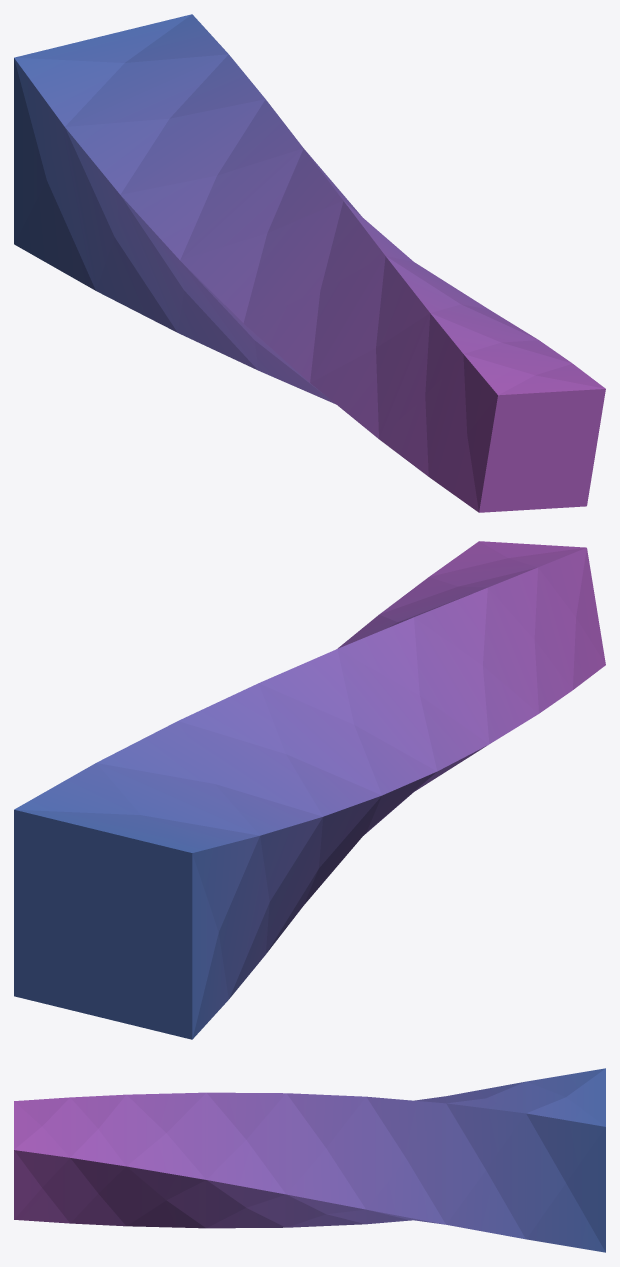
The model's file is 04_twisted_tower.glb.
3 views of the same model, one above another, from view 1: azimuth 30°, elevation 25°; view 2: azimuth 150°, elevation 25°; view 3: azimuth 270°, elevation 25° (orthographic). The views are drawn at different scales.
Parts seen in each view (by area): view 1: 04_twisted_tower.stl; view 2: 04_twisted_tower.stl; view 3: 04_twisted_tower.stl.
Part boxes in pixels (x1,y1,x2,y2): 04_twisted_tower.stl: (14,14,605,512); 04_twisted_tower.stl: (14,541,605,1039); 04_twisted_tower.stl: (14,1068,605,1252).
Bounding box in the file's own units: 34.14 × 34.14 × 128.
